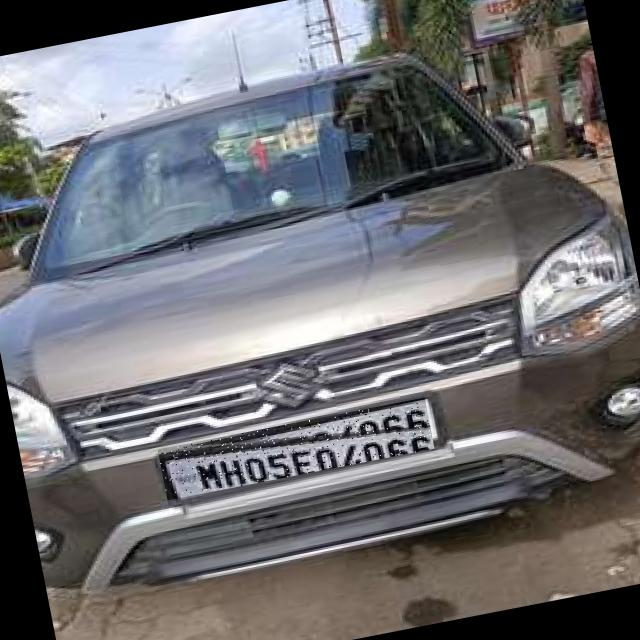Plate: (159, 399, 436, 502)
